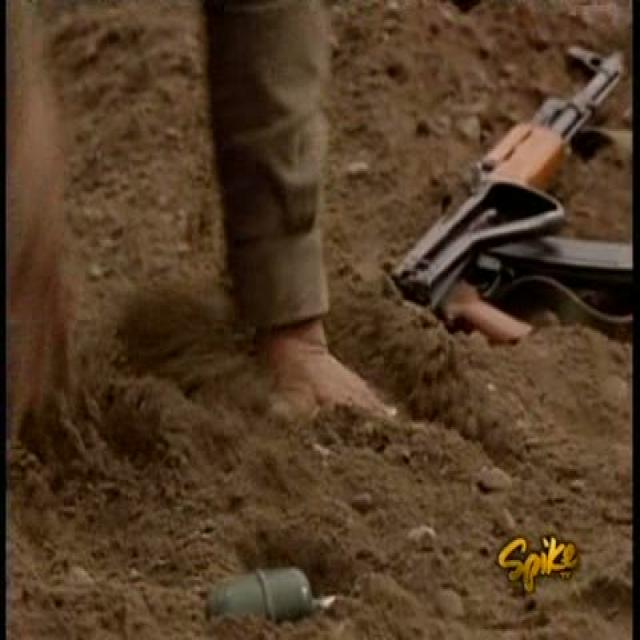rifle: (397, 42, 636, 355)
